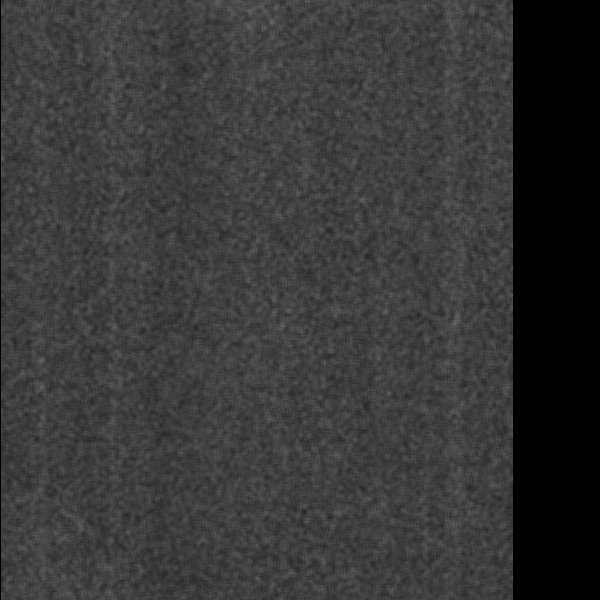spark: (125, 266, 153, 348)
